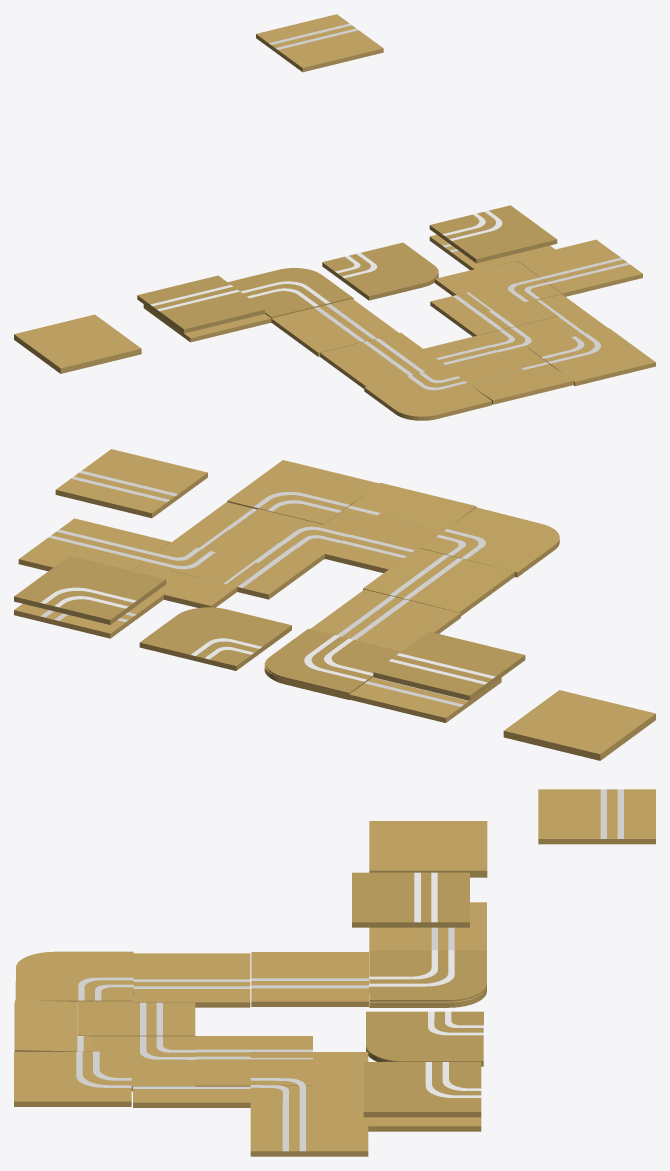
Rendered from tile_group.fbx.
3 views of the same model, one above another, from view 1: azimuth 30°, elevation 25°; view 2: azimuth 150°, elevation 25°; view 3: azimuth 270°, elevation 25° (orthographic). The views are drawn at different scales.
Parts seen in each view (by area): view 1: Plane.004, Plane.001, Plane.013, Plane.021, Plane.005, Plane.011, Plane.020, Plane.014, Plane.019, Plane.017, Plane.006, Plane.002 (+7 smaller); view 2: Plane.013, Plane.001, Plane.004, Plane.005, Plane.011, Plane.017, Plane.021, Plane.020, Plane.006, Plane.002, Plane.019, Plane.014 (+9 smaller); view 3: Plane.004, Plane.013, Plane.001, Plane.014, Plane.020, Plane.019, Plane.011, Plane.017, Plane.002, Plane.005, Plane.021, Plane.006 (+8 smaller).
Part boxes in pixels (x1,y1,x2,y2): Plane.004: (429,205,557,263); Plane.001: (137,275,264,333); Plane.013: (256,14,383,72); Plane.021: (364,367,491,420); Plane.005: (322,242,438,300); Plane.011: (14,314,141,372); Plane.020: (528,328,655,386); Plane.014: (516,239,642,296); Plane.019: (271,298,398,356); Plane.017: (320,332,447,388); Plane.006: (430,282,557,336); Plane.002: (228,268,352,318); Plane.013: (55,449,207,518); Plane.001: (373,631,525,700); Plane.004: (14,556,166,624); Plane.005: (139,607,291,670); Plane.011: (503,690,655,759); Plane.017: (363,547,514,615); Plane.021: (420,507,559,577); Plane.020: (227,460,378,524); Plane.006: (172,530,324,599); Plane.002: (266,628,401,697); Plane.019: (311,589,460,651); Plane.014: (18,518,170,571); Plane.004: (363,1062,481,1117); Plane.013: (538,789,655,844); Plane.001: (352,872,469,927); Plane.014: (250,1101,368,1156); Plane.020: (14,1051,131,1106); Plane.019: (251,952,368,1006); Plane.011: (369,821,487,875); Plane.017: (132,953,250,1007); Plane.002: (369,950,486,1001); Plane.005: (366,1011,483,1066); Plane.021: (15,951,133,1001); Plane.006: (195,1036,312,1086).
Size of the model in its own units: 661 by 216 by 545.
